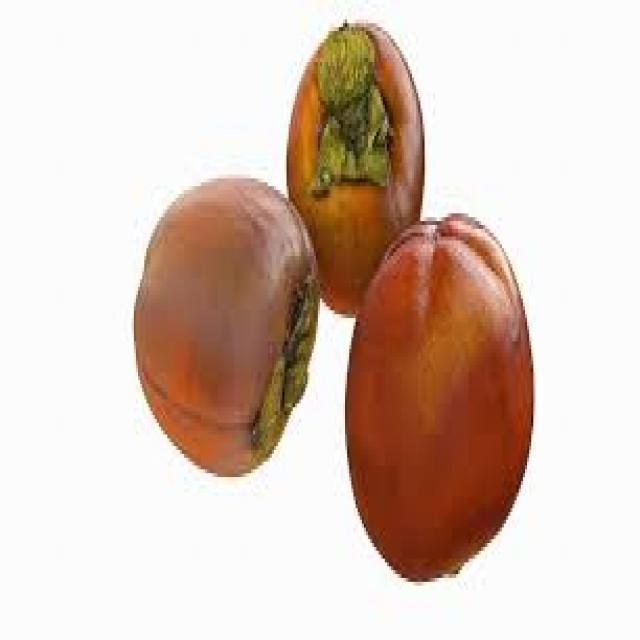organic waste: (345, 209, 531, 582), (132, 175, 316, 470), (282, 12, 422, 314)
